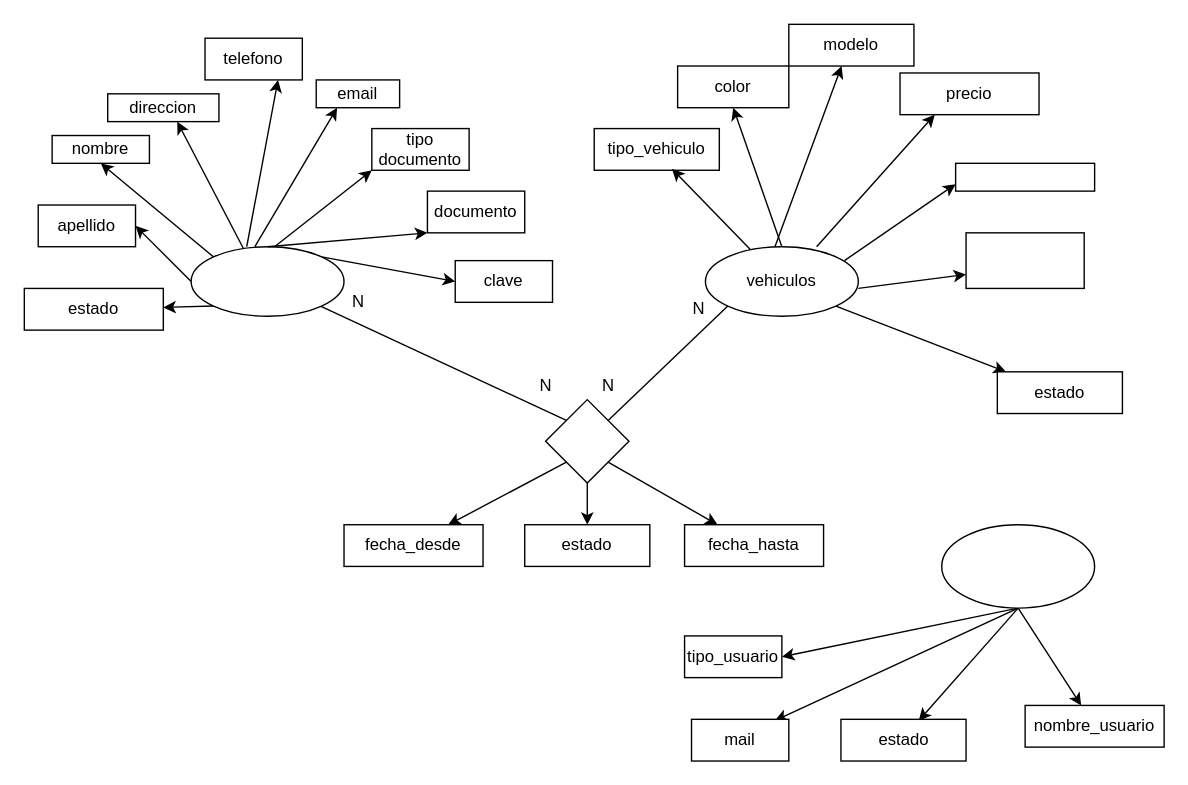
Some shapes in this 1188 by 785 pixel diagram are drawn without their labels. Here are the shapes that lost their labels. From the top down, the centre of each, then its label:
[1024,176]: marca
[1024,259]: cant_pasajeros
[267,280]: usuarios
[586,440]: alquileres
[1017,565]: administradores
